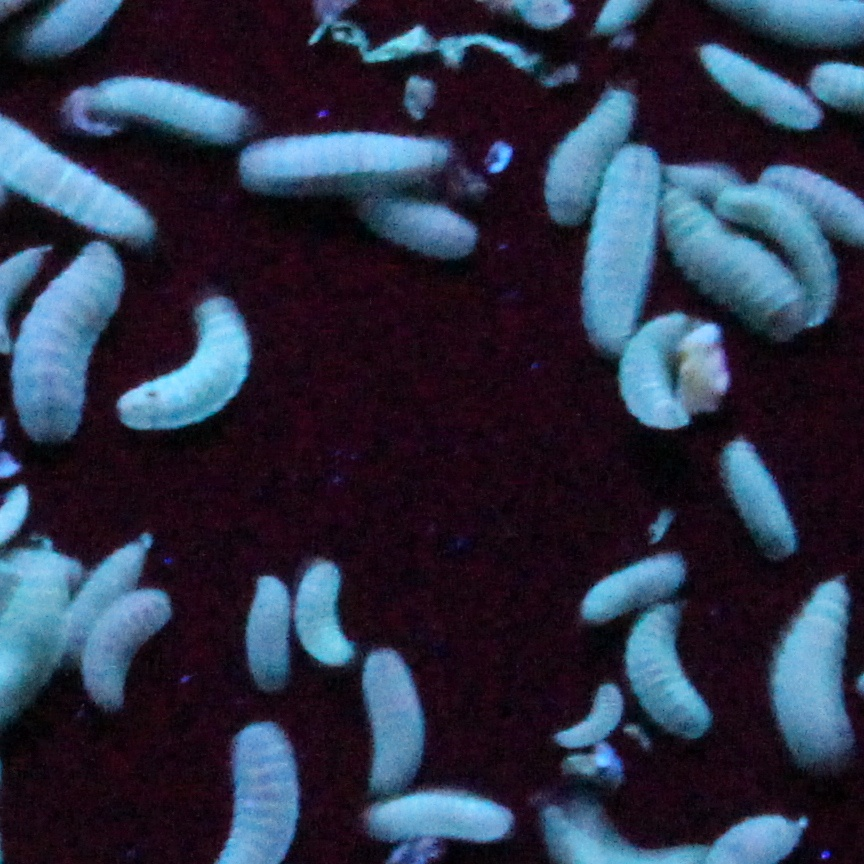larve: (120, 292, 268, 426), (661, 182, 796, 326), (14, 257, 121, 434), (719, 184, 840, 316), (778, 581, 859, 768), (583, 139, 655, 346), (627, 602, 717, 743), (242, 132, 458, 189), (545, 86, 634, 224), (82, 78, 241, 151), (69, 529, 158, 657), (80, 589, 168, 706), (721, 432, 797, 557), (361, 644, 421, 793), (699, 43, 806, 126), (619, 326, 695, 440), (582, 544, 683, 619), (365, 202, 485, 262), (361, 803, 517, 847), (299, 557, 352, 665), (247, 572, 292, 686), (561, 679, 621, 753)
